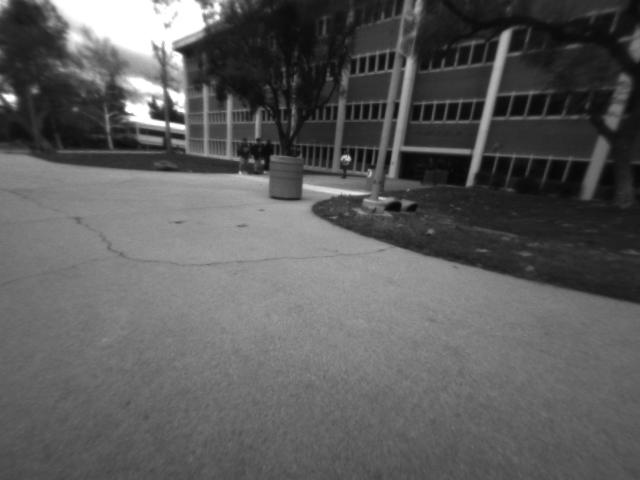trashcan: (263, 148, 309, 205)
